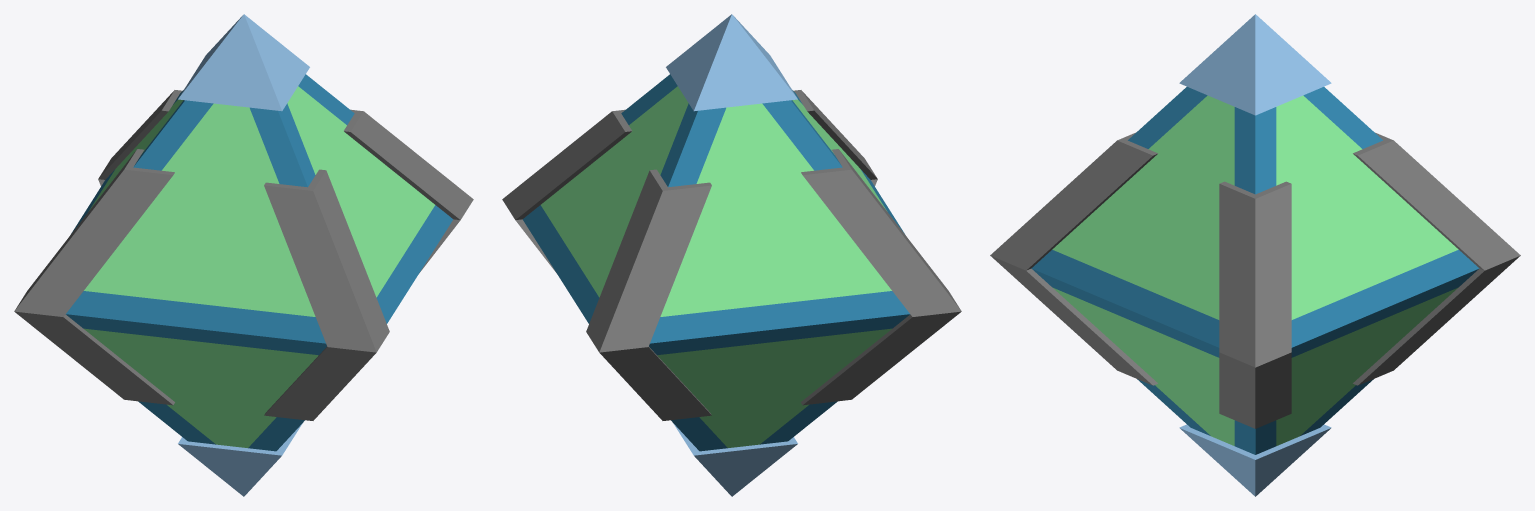
File: Crystal.fbx
3 views of the same model, side by side, from view 1: azimuth 30°, elevation 25°; view 2: azimuth 150°, elevation 25°; view 3: azimuth 270°, elevation 25° (orthographic).
Visible parts, largest first — view 1: Cone; view 2: Cone; view 3: Cone.
Part boxes in pixels (x1,y1,x2,y2): Cone: (14,14,473,496); Cone: (502,14,961,496); Cone: (990,14,1520,496).
Size of the model in its own units: 2.08 by 2.09 by 2.08.
